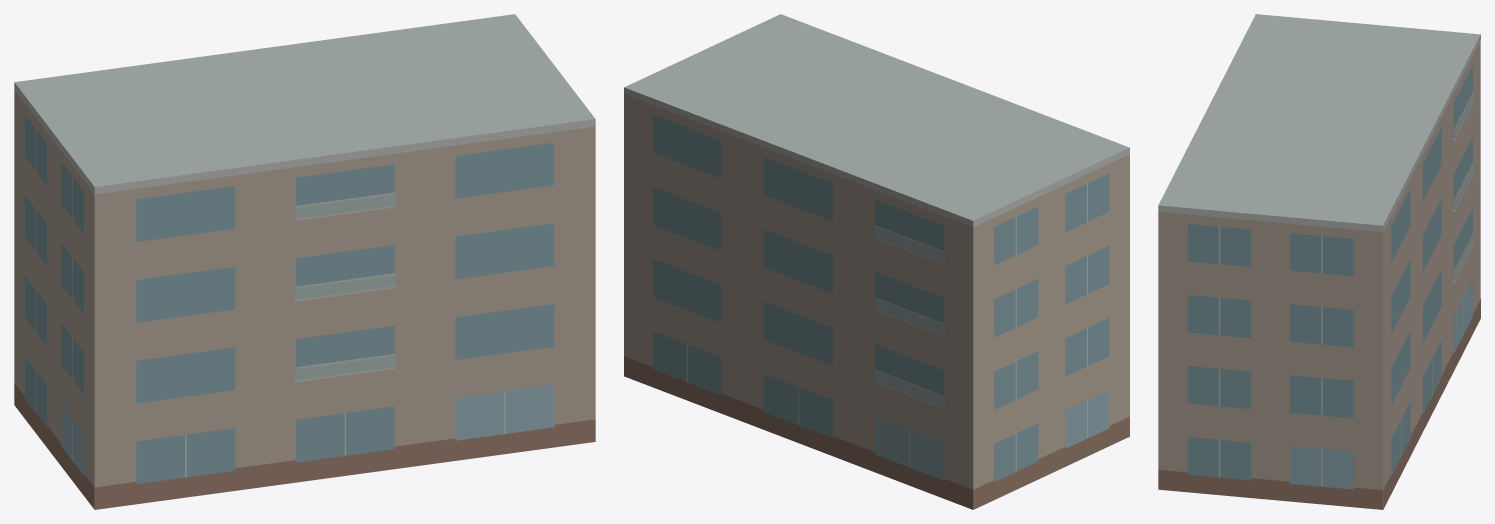
The model's file is survey-upis-32928787.glb.
3 renders of one model, left to right at view 1: azimuth 30°, elevation 25°; view 2: azimuth 150°, elevation 25°; view 3: azimuth 270°, elevation 25°, orthographic. The views are drawn at different scales.
Visible parts, largest first — view 1: survey-upis-32928787.tmp; view 2: survey-upis-32928787.tmp; view 3: survey-upis-32928787.tmp.
Boxes of the visible parts, x1,y1,x2,y2 form: survey-upis-32928787.tmp: [14, 14, 595, 509]; survey-upis-32928787.tmp: [624, 14, 1129, 509]; survey-upis-32928787.tmp: [1158, 14, 1480, 509].
Bounding box in the file's own units: 16.94 × 10.6 × 10.91.
